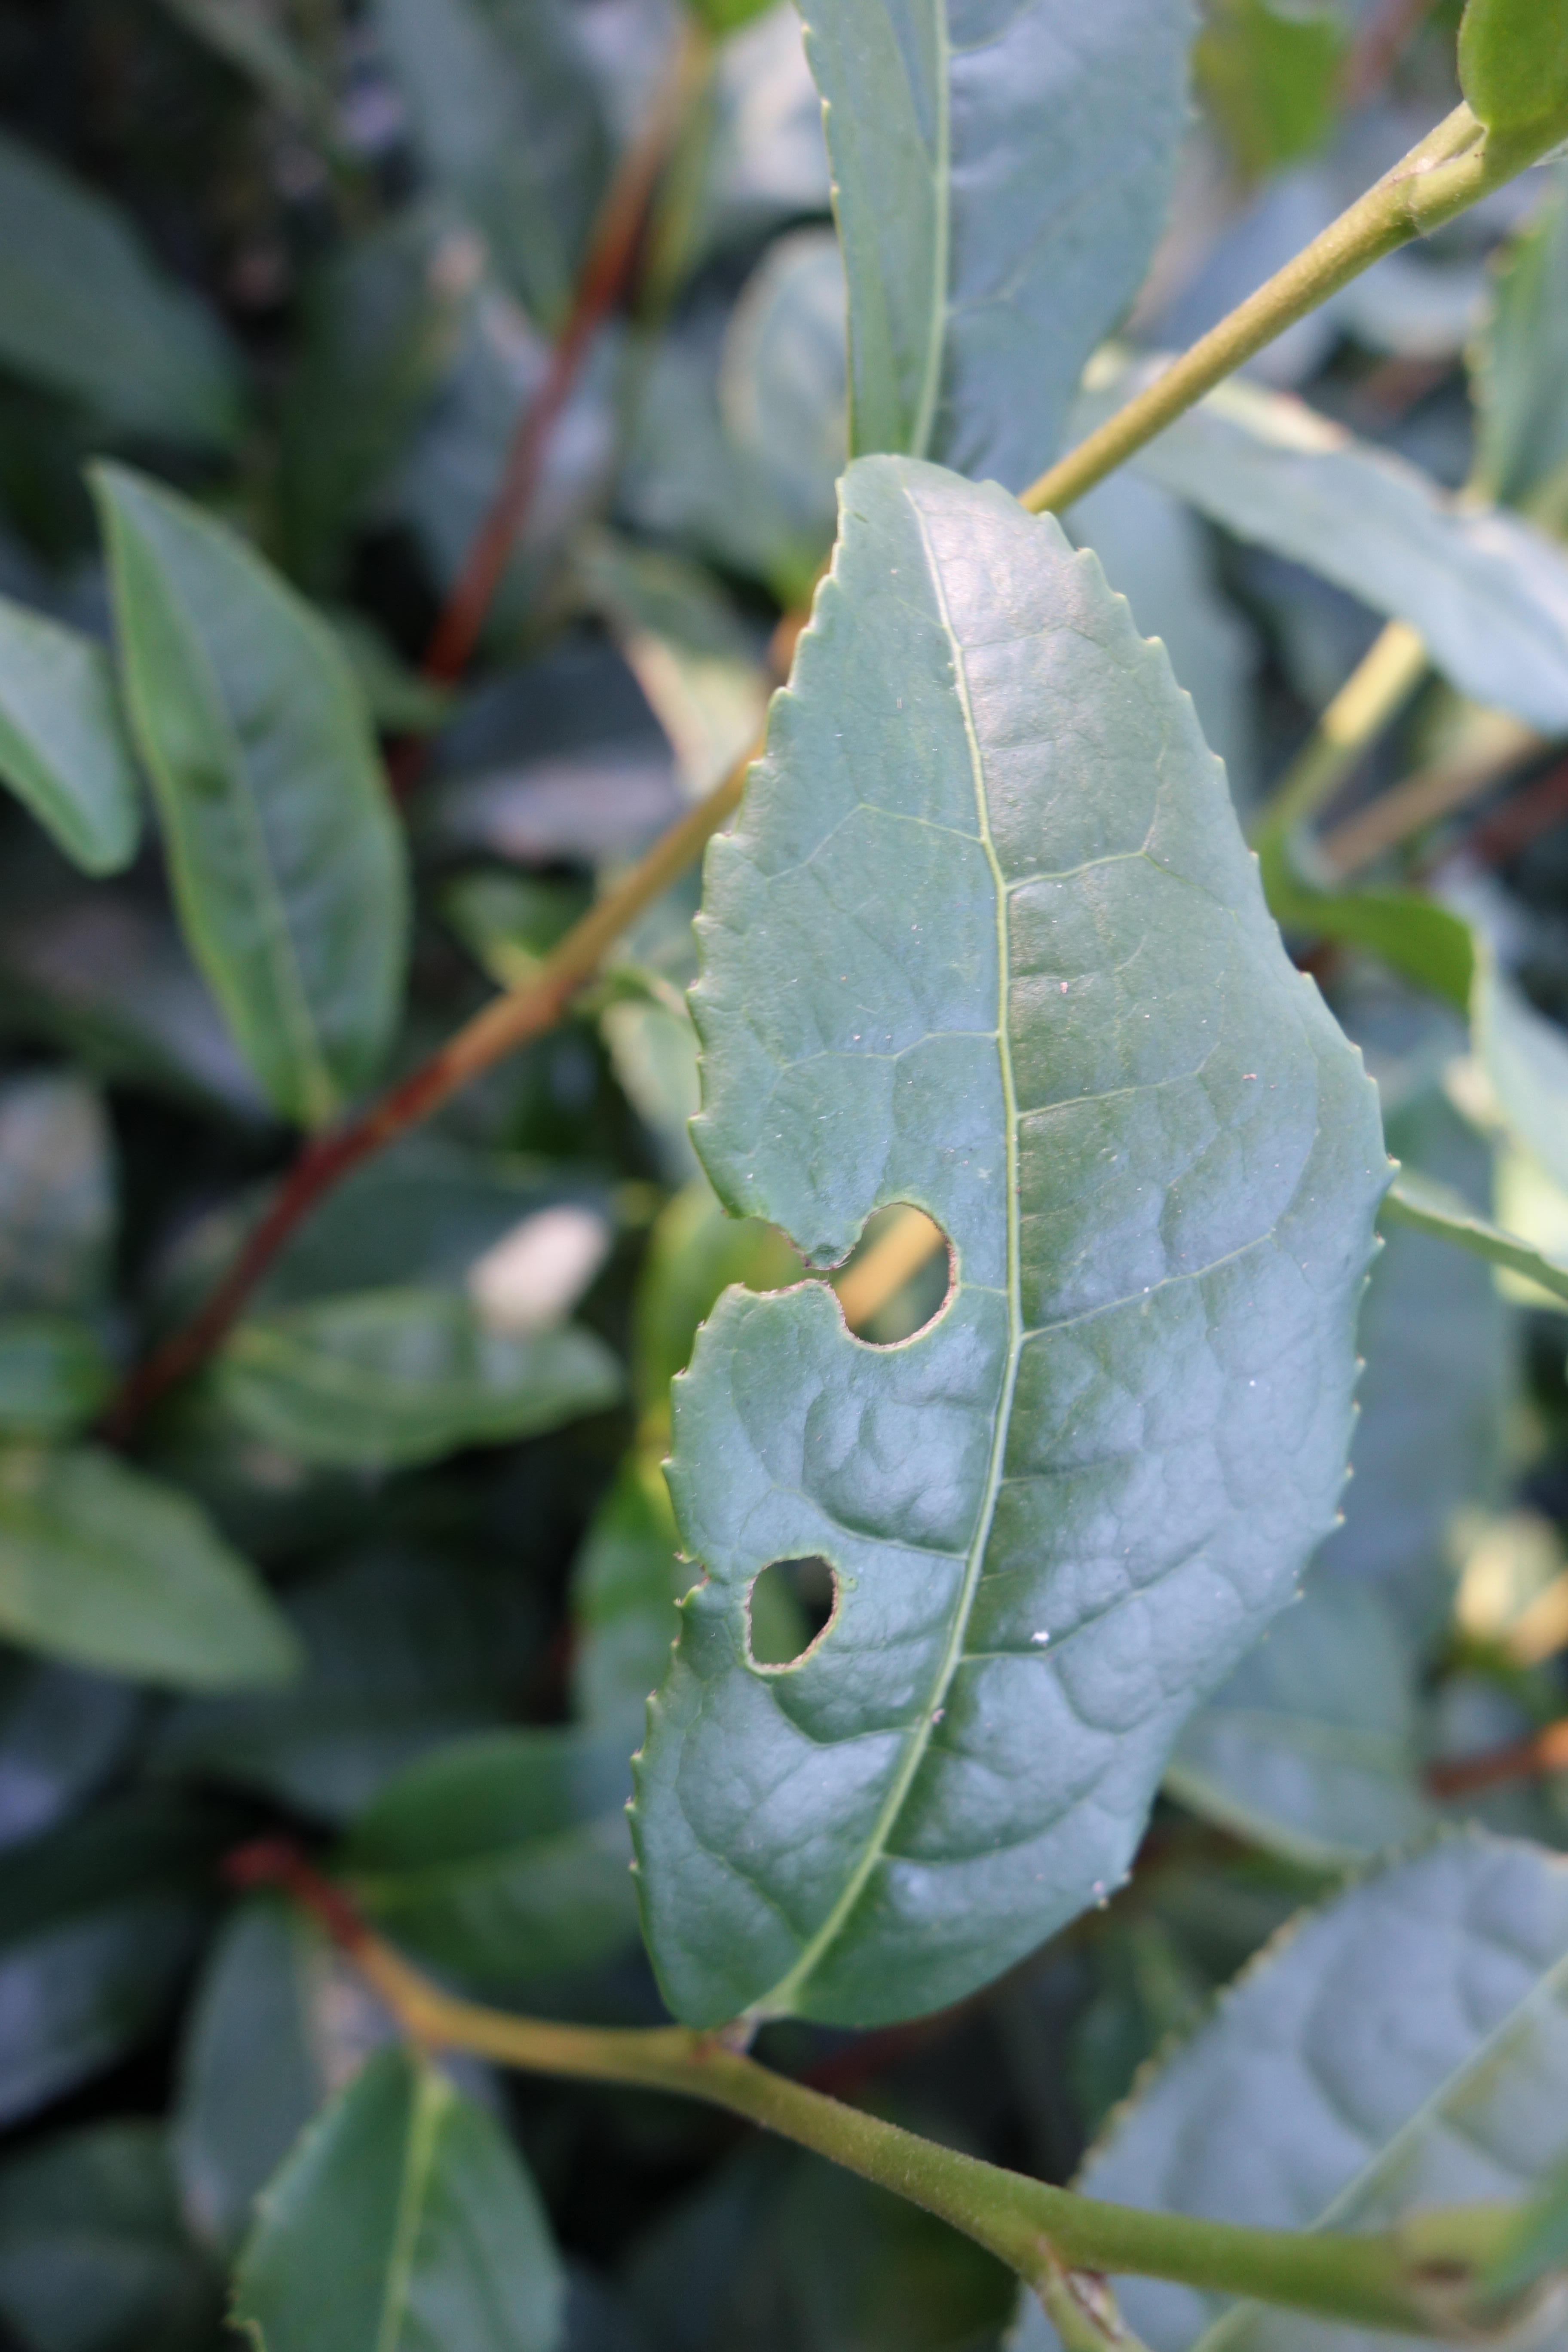chihuo_high: (616, 453, 1403, 2044)
